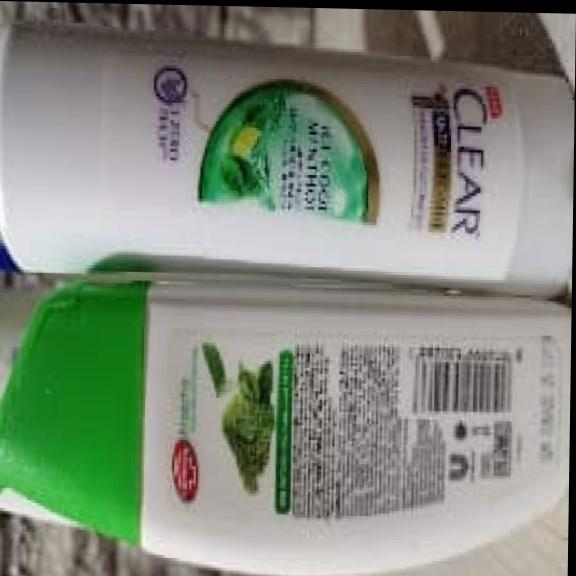Plastik: (0, 281, 569, 575), (0, 25, 573, 284)
